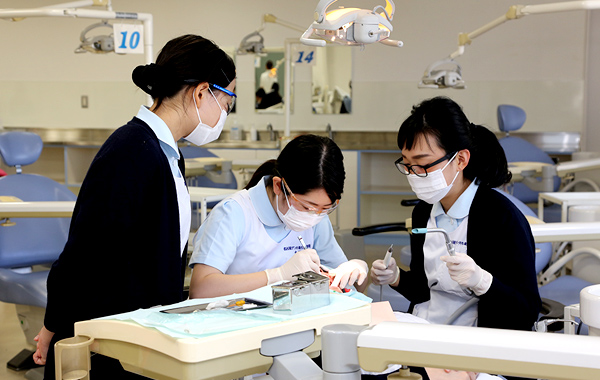mask: (406, 171, 454, 207), (276, 204, 328, 233), (189, 108, 227, 146)
